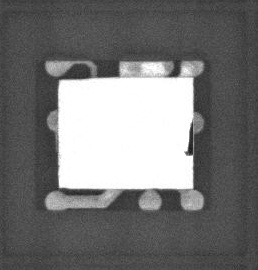DIE_BROKEN: (182, 119, 194, 158)
